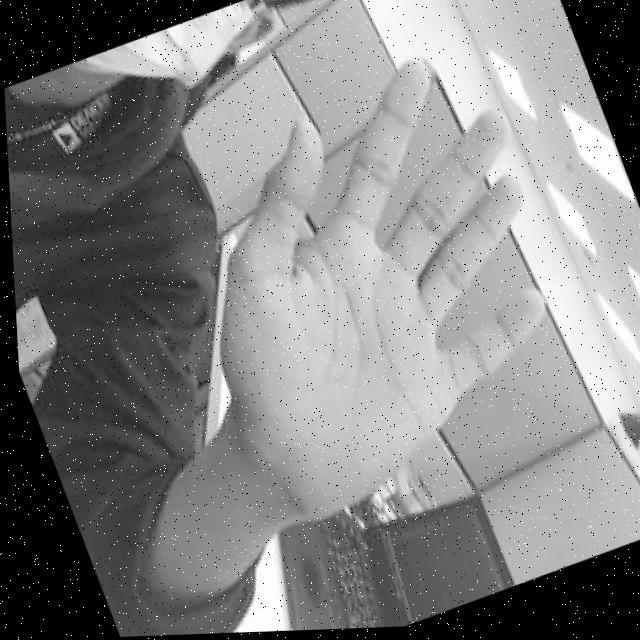no-gloves: (138, 39, 620, 538)
